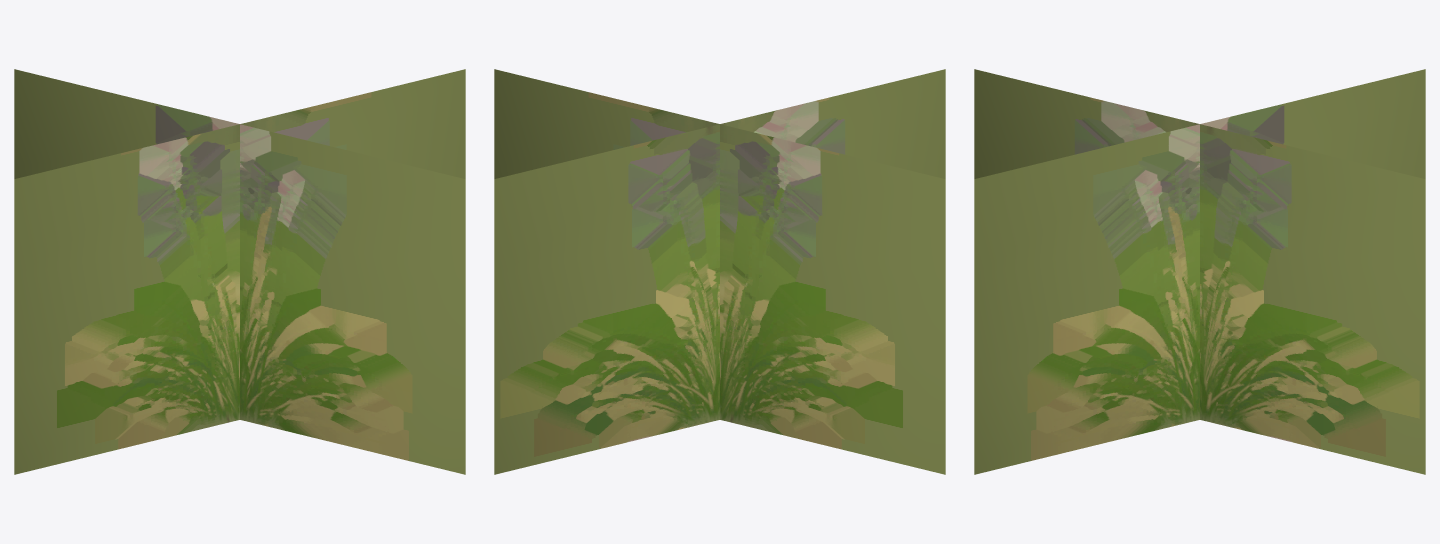
Rendered from wild-meadow-grass-far.glb.
3 renders of one model, left to right at view 1: azimuth 30°, elevation 25°; view 2: azimuth 150°, elevation 25°; view 3: azimuth 270°, elevation 25°, orthographic.
Parts seen in each view (by area): view 1: grass_lod2; view 2: grass_lod2; view 3: grass_lod2.
Part boxes in pixels (<box>): grass_lod2: <box>14,69,465,474</box>; grass_lod2: <box>494,69,945,474</box>; grass_lod2: <box>974,69,1425,474</box>.
Size of the model in its own units: 1.1 by 0.6881 by 0.9524.
Materials: 1 (1 with a texture image).
